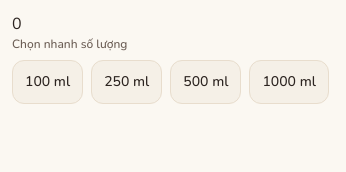
PantryQuantityPresets › fills a decimal quantity for the exact ml unit
The image size is (346, 172).
Click the button "500 ml". click: (206, 82)
box: x1=170 y1=60 x2=241 y2=104
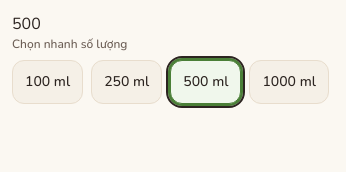
Check: the field named "Quantity" holds "500", box x1=12 y1=12 x2=211 y2=36
